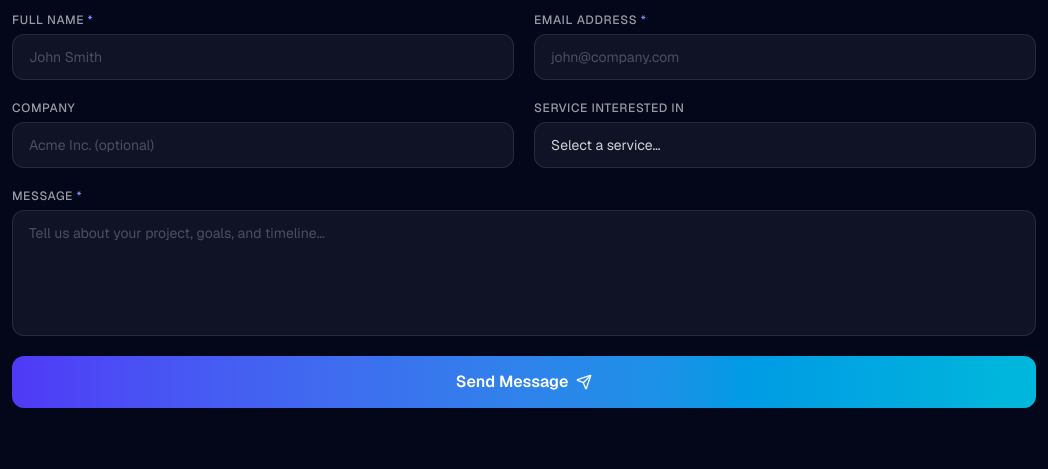
it: ContactForm › shows invalid email error
Type "not-an-email" into the field with placeholder "john@company.com" at (785, 57), box [534,34,1036,80]
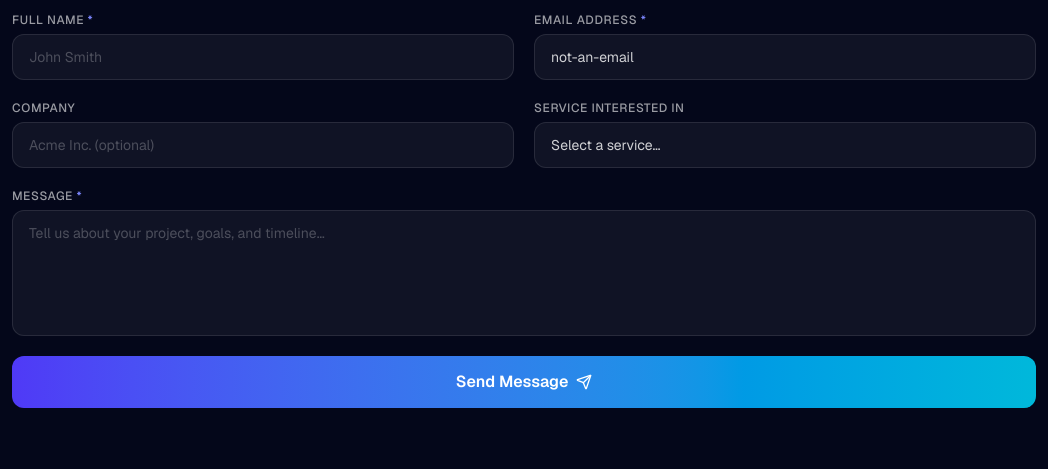
Click the button "Send Message" at (524, 382), box [12,356,1036,408]
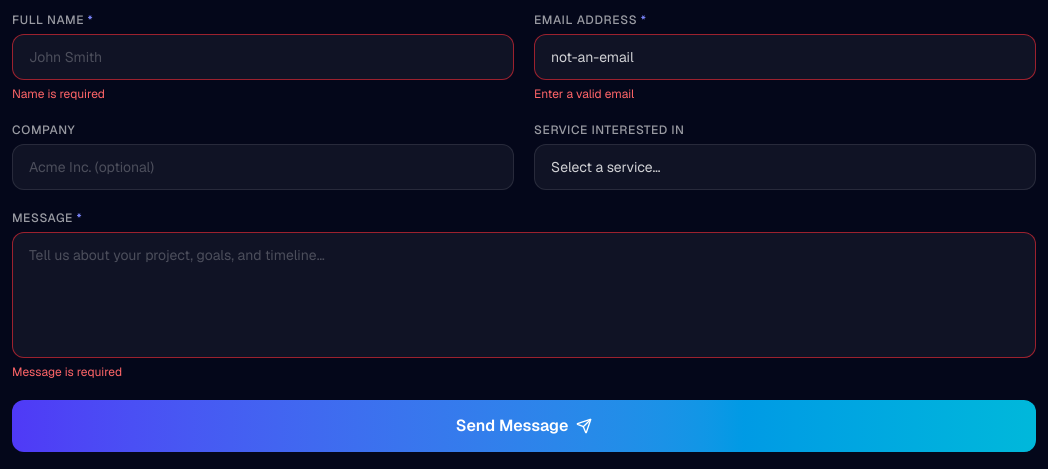
Expected: the text "Enter a valid email" is shown, [534,86,634,102]
